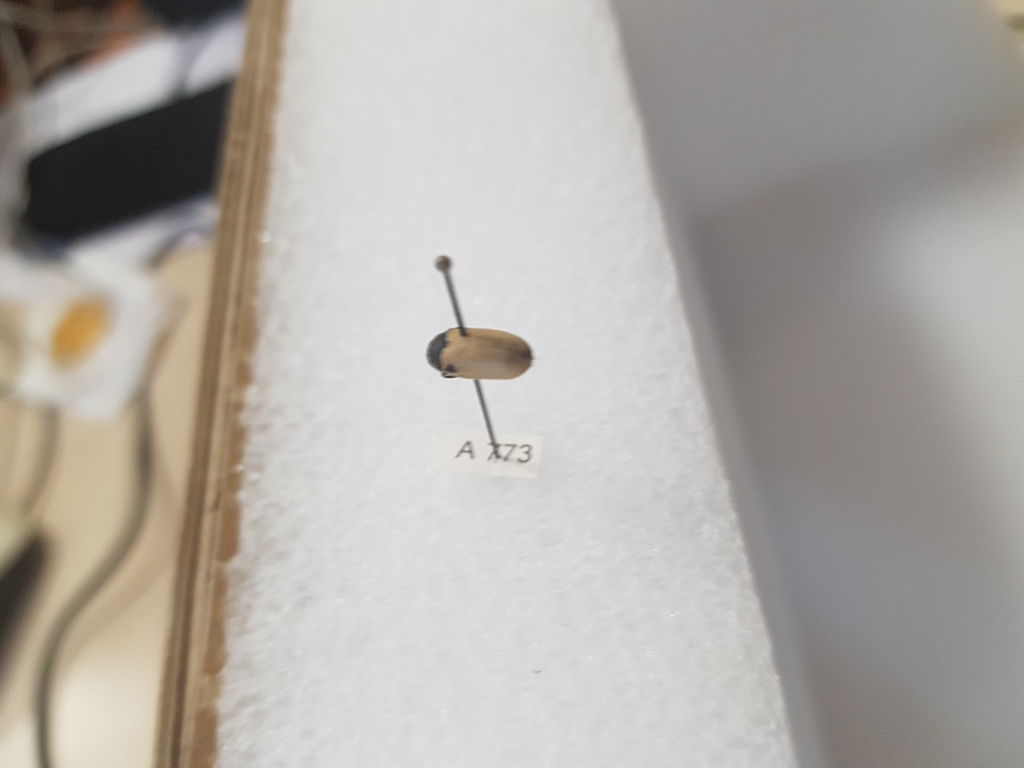Labidostomis_propinqua: (427, 325, 538, 390)
